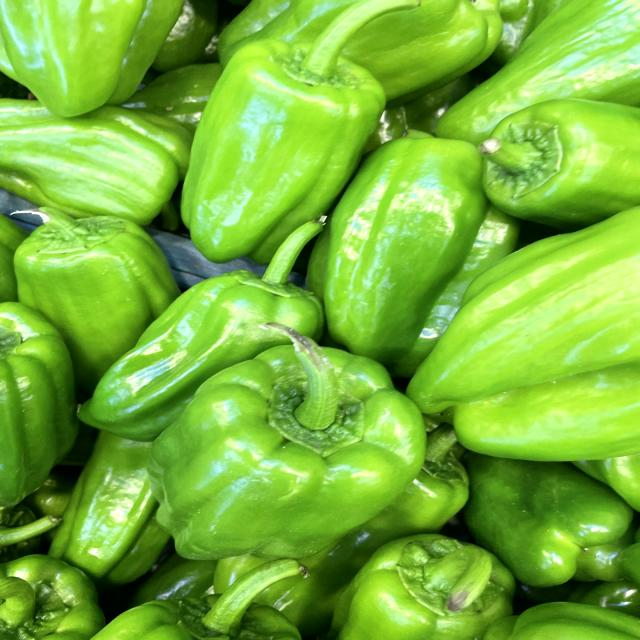bell pepper: (140, 315, 457, 567), (168, 0, 423, 267)
